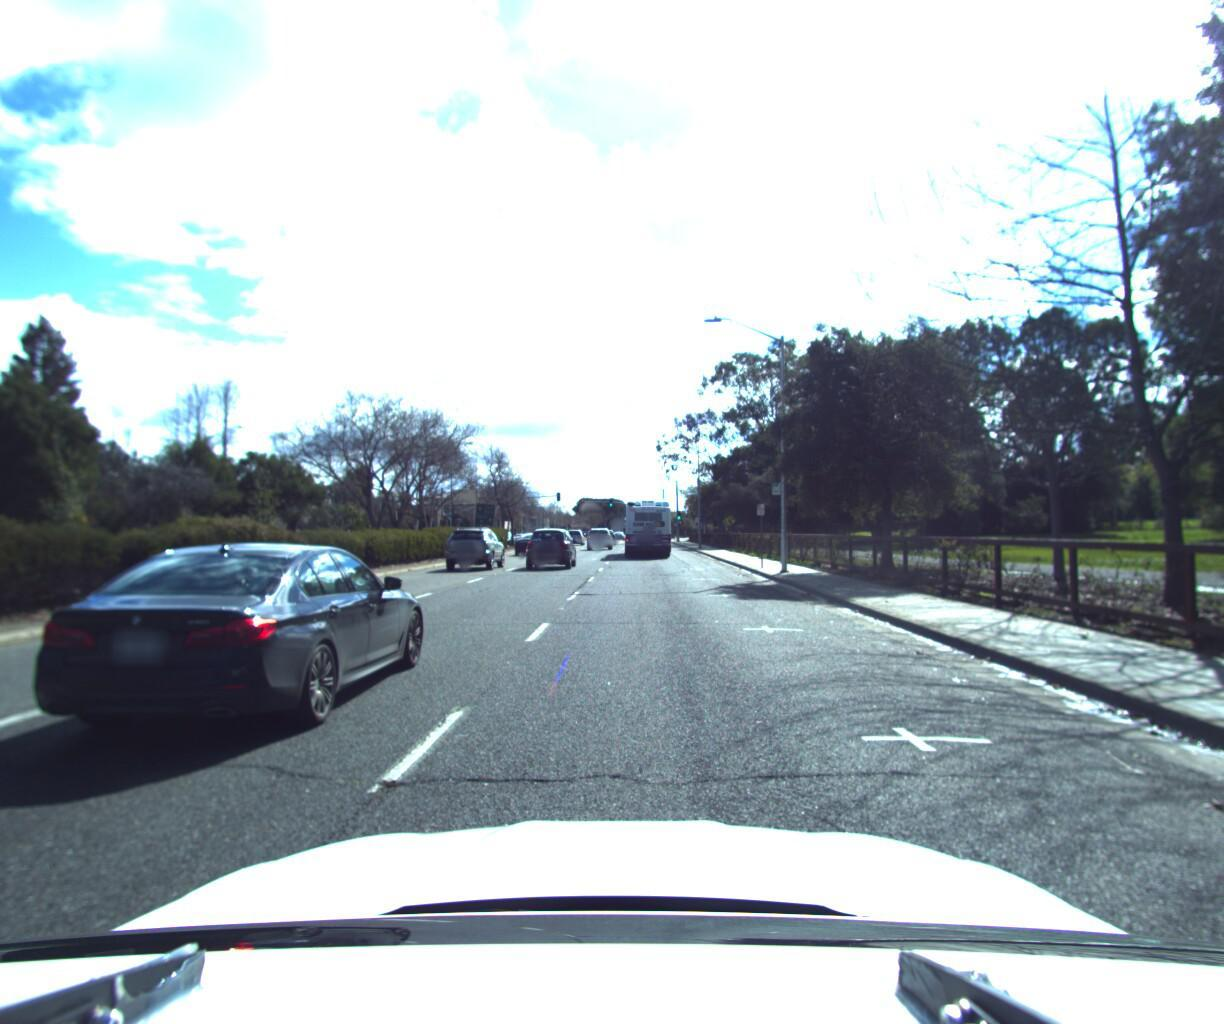bus: (622, 494, 676, 558)
car: (0, 538, 447, 781), (441, 525, 507, 570), (525, 528, 578, 573), (514, 531, 551, 557), (588, 527, 615, 550)
